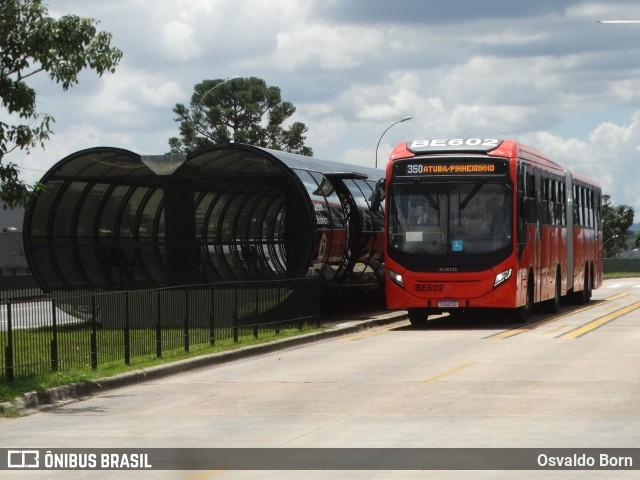ATUBA PINHEIRINHO: (421, 161, 499, 176)
